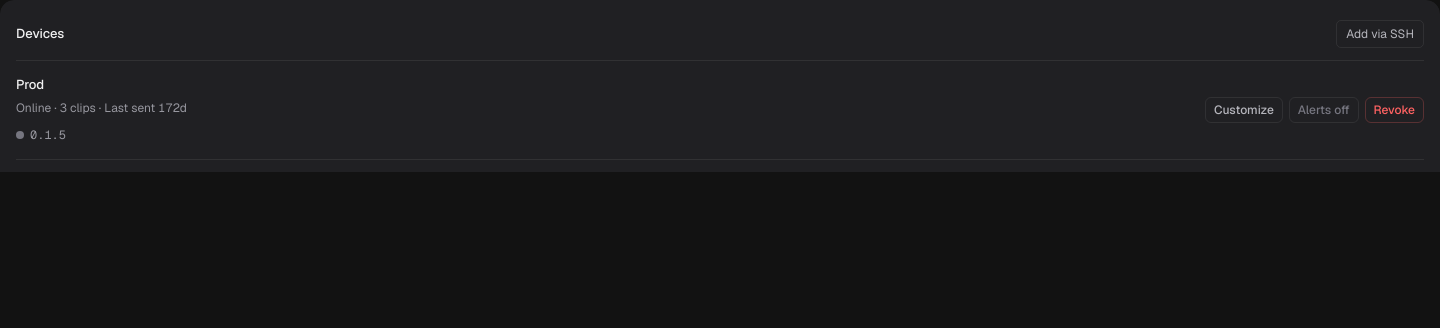
DevicesPanel › Cancel closes the customize panel without saving
Click the button with aria-label "customize prod": (1244, 110) [1205, 97, 1283, 123]
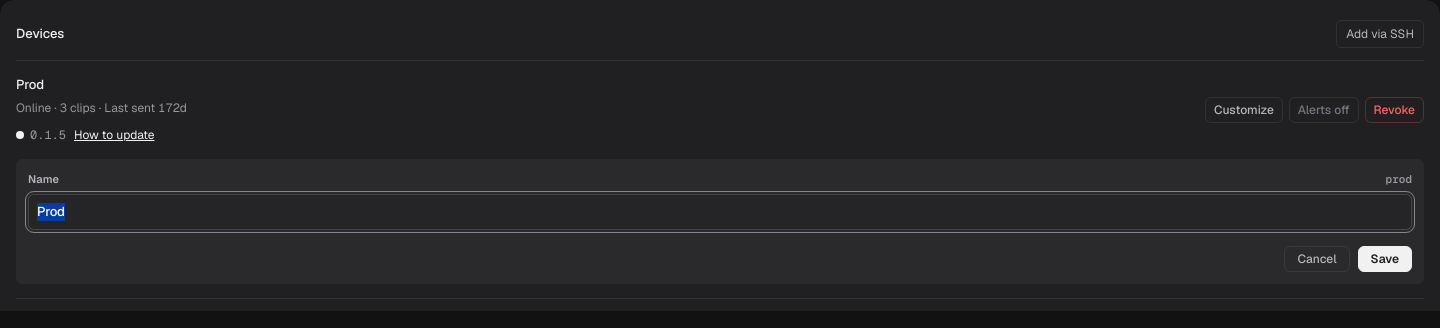
Replace the text in the field named "device display name" with "Discarded": (720, 212) [28, 194, 1412, 230]
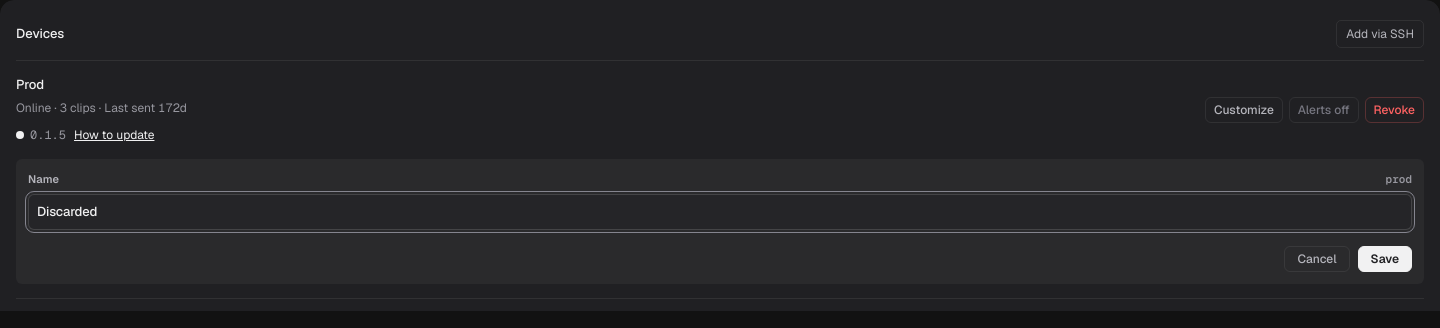
Click the button with aria-label "cancel customizing prod": (1317, 259) [1284, 246, 1350, 272]
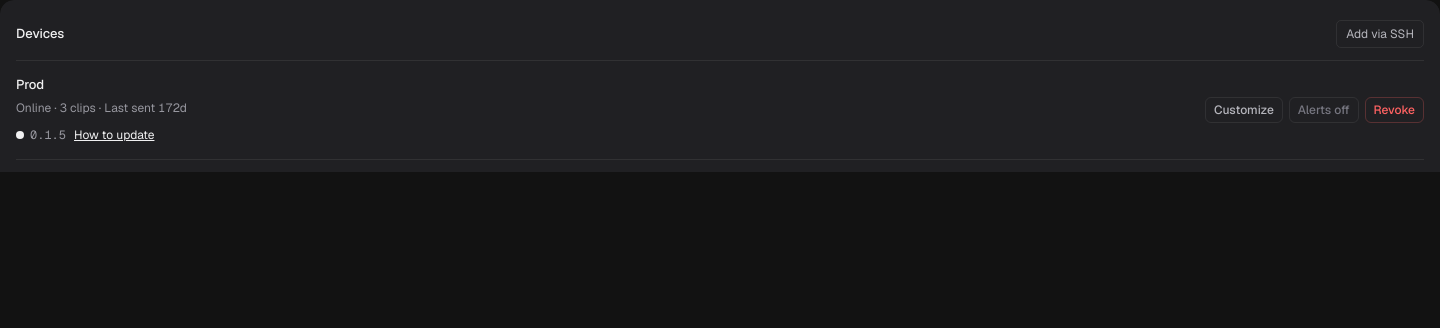
Result: the field labelled "device settings for prod" is gone
